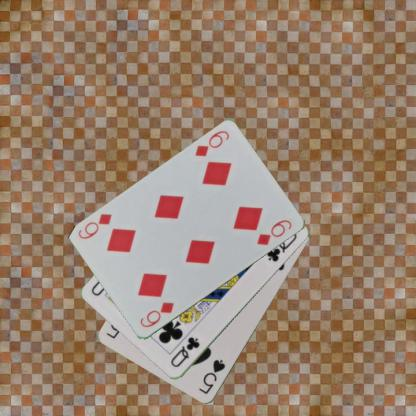5s: (197, 357, 227, 396)
6d: (137, 300, 175, 330), (192, 128, 230, 158)
Qc: (168, 334, 201, 370)
